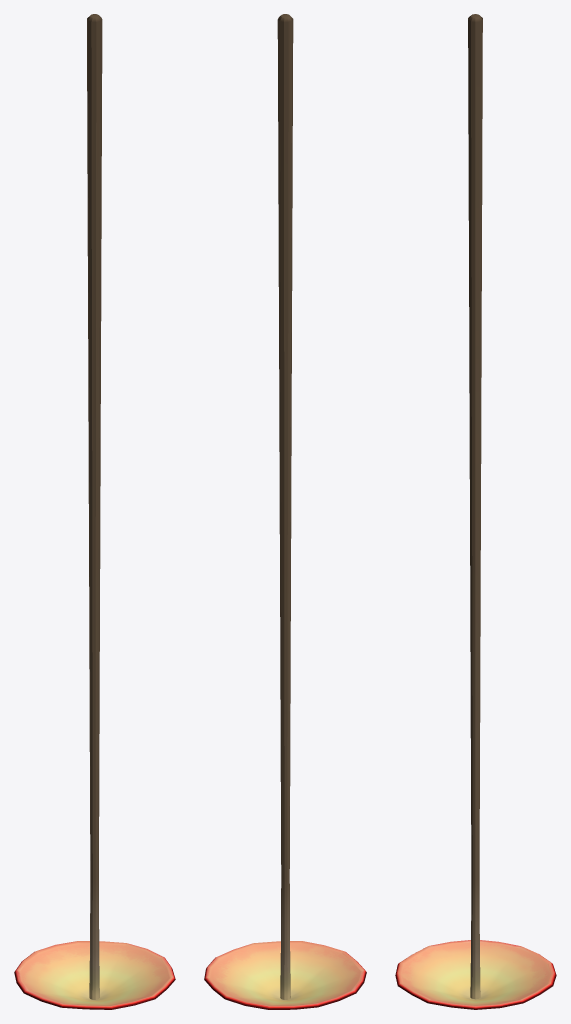
File: MD_MushLight_01_03.fbx
The picture shows the model from 3 angles, left to right: view 1: azimuth 30°, elevation 25°; view 2: azimuth 150°, elevation 25°; view 3: azimuth 270°, elevation 25°; orthographic projection.
Visible parts, largest first — view 1: MushroomLight01; view 2: MushroomLight01; view 3: MushroomLight01.
Part boxes in pixels (x1=…): MushroomLight01: x1=14, y1=14, x2=175, y2=1009; MushroomLight01: x1=204, y1=14, x2=366, y2=1009; MushroomLight01: x1=395, y1=14, x2=556, y2=1009.
Size of the model in its own units: 469 by 3109 by 462.
1 material, 1 textured.
